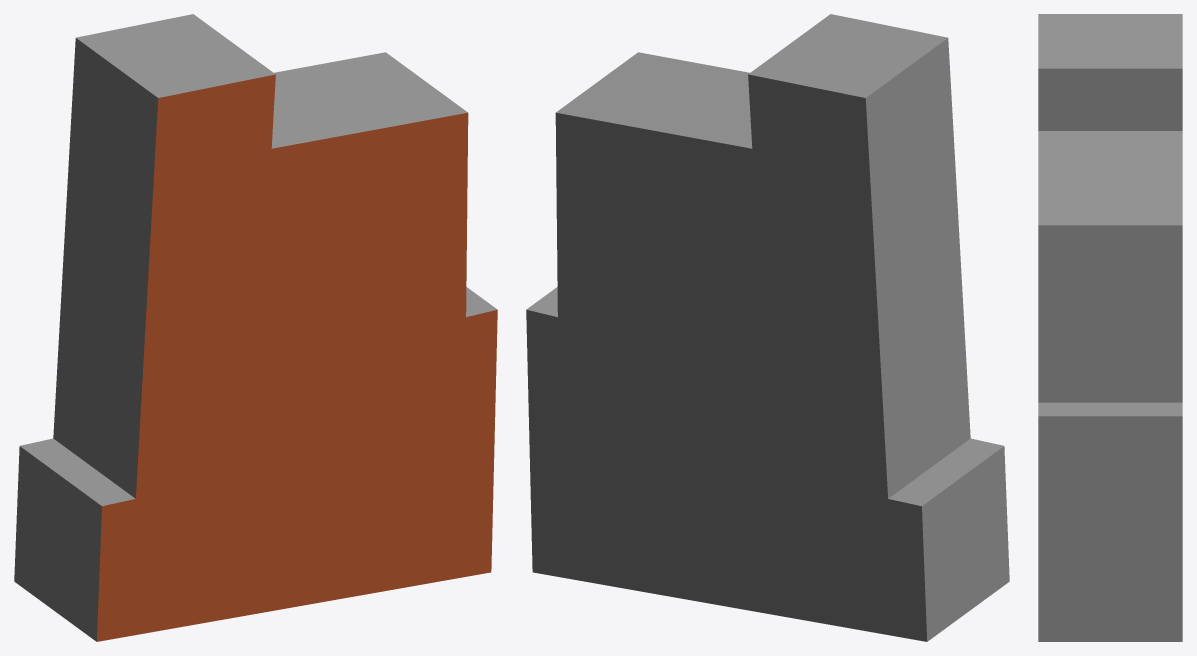
The model's file is construction_6143_assumed_A_Casa_h6m.obj.
3 renders of one model, left to right at view 1: azimuth 30°, elevation 25°; view 2: azimuth 150°, elevation 25°; view 3: azimuth 270°, elevation 25°, orthographic. The views are drawn at different scales.
Visible parts, largest first — view 1: construction_6143_assumed_A_Casa; view 2: construction_6143_assumed_A_Casa; view 3: construction_6143_assumed_A_Casa.
Part boxes in pixels (x1=…): construction_6143_assumed_A_Casa: x1=14, y1=14, x2=497, y2=641; construction_6143_assumed_A_Casa: x1=526, y1=14, x2=1009, y2=641; construction_6143_assumed_A_Casa: x1=1038, y1=14, x2=1182, y2=641.
Bounding box in the file's own units: 16.83 × 22.28 × 6.
